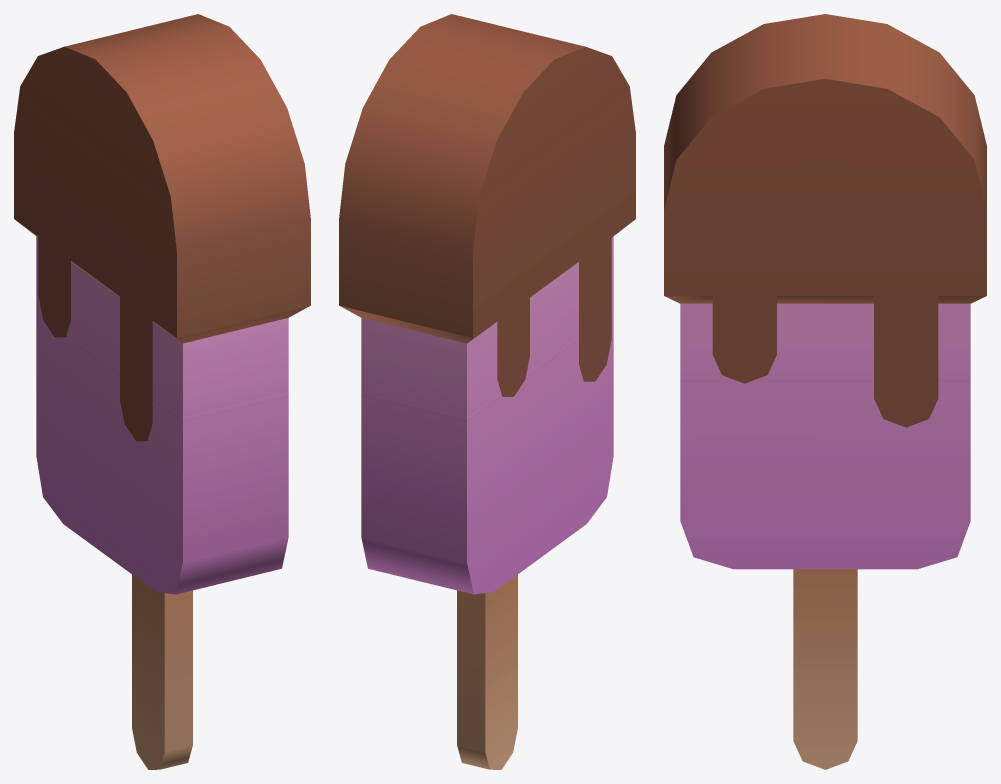
File: popsicle-chocolate.glb
3 views of the same model, side by side, from view 1: azimuth 30°, elevation 25°; view 2: azimuth 150°, elevation 25°; view 3: azimuth 270°, elevation 25° (orthographic).
Visible parts, largest first — view 1: popsicle-chocolate; view 2: popsicle-chocolate; view 3: popsicle-chocolate.
Boxes of the visible parts, left/top/right/bottom form: popsicle-chocolate: left=14, top=14, right=310, bottom=769; popsicle-chocolate: left=339, top=14, right=635, bottom=769; popsicle-chocolate: left=664, top=14, right=986, bottom=769.
Size of the model in its own units: 0.095 by 0.49 by 0.2.
Materials: 1 (1 with a texture image).
